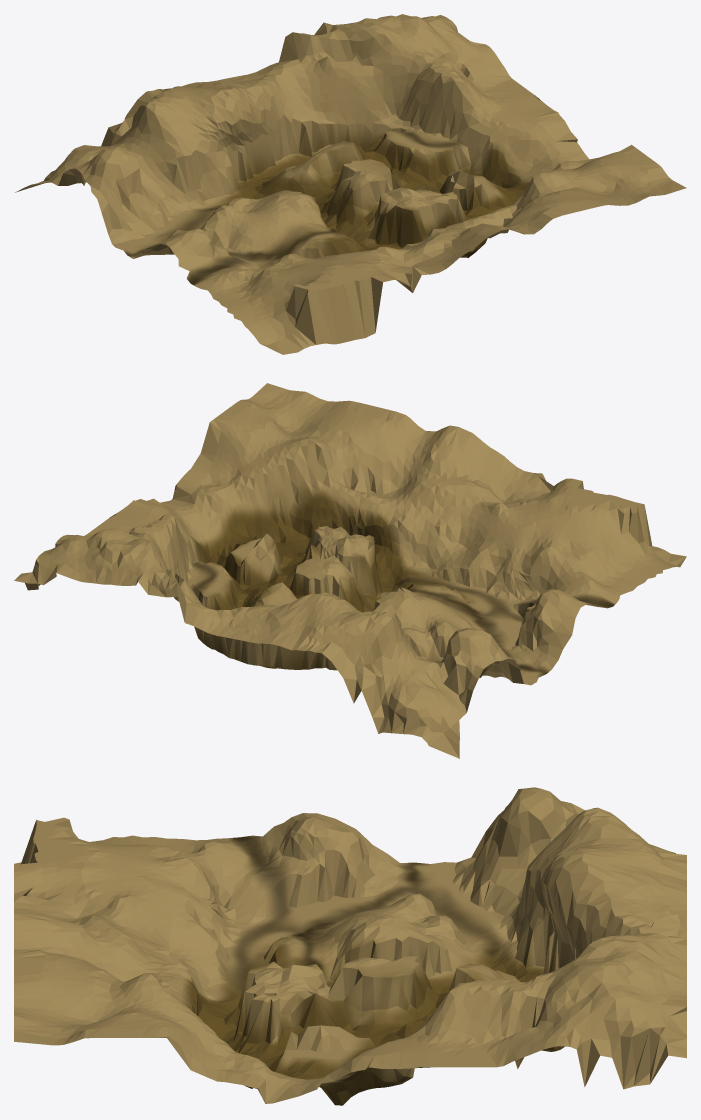
File: TM13_Terrain.fbx
3 views of the same model, one above another, from view 1: azimuth 30°, elevation 25°; view 2: azimuth 150°, elevation 25°; view 3: azimuth 270°, elevation 25° (orthographic). The views are drawn at different scales.
Parts seen in each view (by area): view 1: TM13.StartHighVelly, TM13.SideBearsSole, TM13.BearsSole, TM13.EndHighVelly, TM13.MiddleHighVelly, TM13.EntranceHighVelly; view 2: TM13.MiddleHighVelly, TM13.EndHighVelly, TM13.SideBearsSole, TM13.StartHighVelly, TM13.BearsSole, TM13.EntranceHighVelly; view 3: TM13.StartHighVelly, TM13.EndHighVelly, TM13.BearsSole, TM13.SideBearsSole, TM13.MiddleHighVelly, TM13.EntranceHighVelly.
Part boxes in pixels (x1,y1,x2,y2): TM13.StartHighVelly: (261, 14, 596, 215); TM13.SideBearsSole: (15, 70, 304, 228); TM13.BearsSole: (152, 141, 466, 259); TM13.EndHighVelly: (196, 232, 487, 354); TM13.MiddleHighVelly: (422, 144, 686, 257); TM13.EntranceHighVelly: (102, 198, 253, 286); TM13.MiddleHighVelly: (176, 383, 473, 570); TM13.EndHighVelly: (391, 434, 686, 623); TM13.SideBearsSole: (203, 592, 519, 758); TM13.StartHighVelly: (14, 485, 300, 661); TM13.BearsSole: (224, 526, 506, 663); TM13.EntranceHighVelly: (479, 589, 616, 685); TM13.StartHighVelly: (252, 914, 686, 1105); TM13.EndHighVelly: (14, 817, 317, 1011); TM13.BearsSole: (216, 885, 521, 1048); TM13.SideBearsSole: (469, 787, 686, 982); TM13.MiddleHighVelly: (14, 908, 286, 1088); TM13.EntranceHighVelly: (227, 813, 491, 924).
Bounding box in the file's own units: 32890 × 8300 × 32353.
